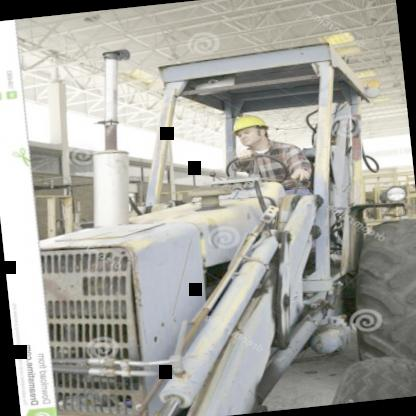helmet: (228, 107, 277, 154)
